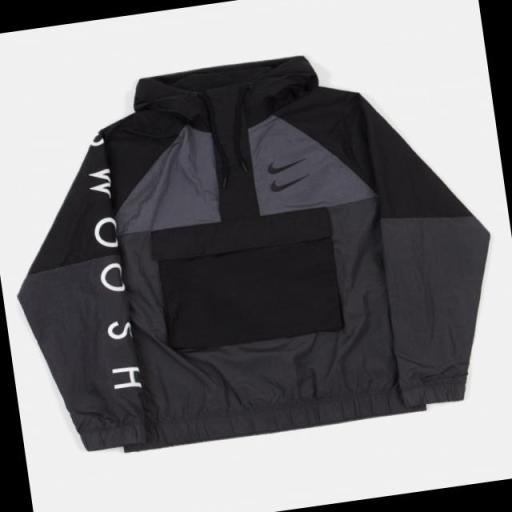Nike: (267, 157, 310, 177)
